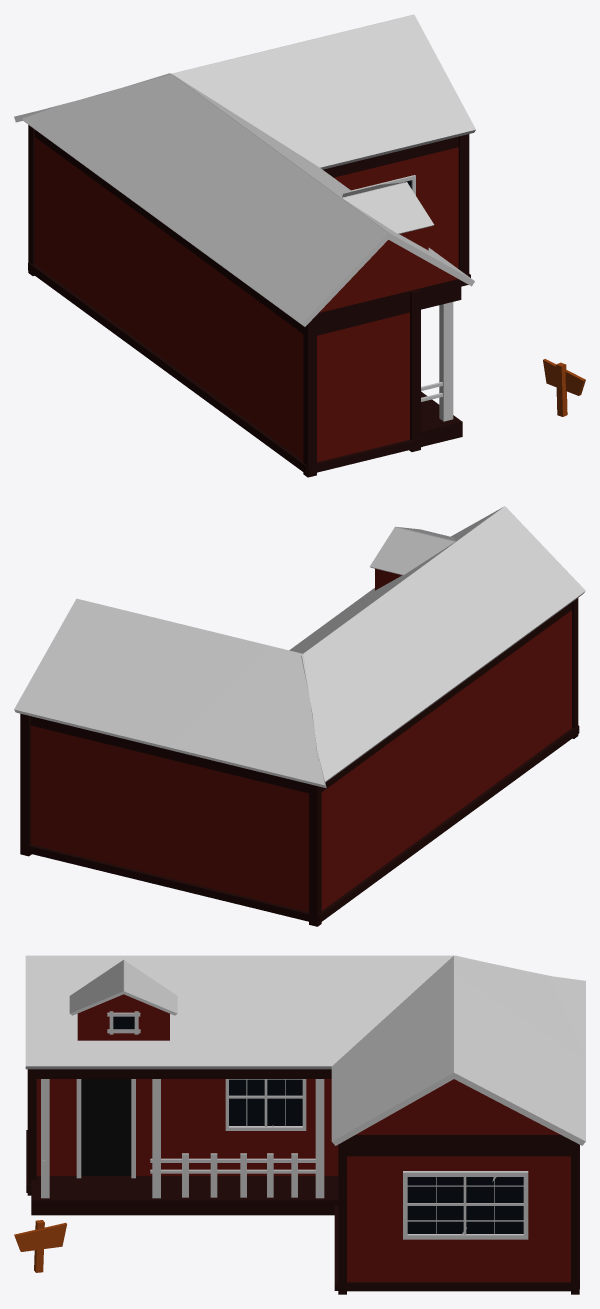
The model's file is House_04.FBX.
The picture shows the model from 3 angles, top to bottom: view 1: azimuth 30°, elevation 25°; view 2: azimuth 150°, elevation 25°; view 3: azimuth 270°, elevation 25°; orthographic projection. The views are drawn at different scales.
Parts seen in each view (by area): view 1: polySurface473, polySurface519, polySurface471, polySurface524, polySurface464, polySurface420, polySurface439, polySurface416, polySurface418, polySurface472, polySurface522, polySurface463 (+24 smaller); view 2: polySurface463, polySurface461, polySurface519, polySurface531, polySurface471, polySurface473, polySurface524, polySurface468, polySurface464, polySurface529, polySurface449, polySurface528 (+21 smaller); view 3: polySurface459, polySurface453, polySurface449, polySurface412, polySurface451, polySurface408, polySurface455, polySurface406, polySurface531, polySurface529, polySurface410, polySurface420 (+38 smaller).
Boxes of the visible parts, box(x1,y1,x2,y2) form: polySurface473: box(203, 271, 409, 431); polySurface519: box(221, 167, 355, 326); polySurface471: box(70, 160, 151, 348); polySurface524: box(32, 108, 239, 198); polySurface464: box(151, 215, 228, 386); polySurface420: box(242, 35, 356, 169); polySurface439: box(325, 240, 461, 347); polySurface416: box(378, 15, 461, 152); polySurface418: box(330, 24, 397, 161); polySurface472: box(273, 304, 409, 377); polySurface522: box(128, 124, 280, 216); polySurface463: box(35, 143, 75, 289); polySurface463: box(232, 759, 357, 911); polySurface461: box(66, 725, 174, 879); polySurface519: box(422, 539, 585, 647); polySurface531: box(167, 645, 316, 754); polySurface471: box(353, 708, 428, 887); polySurface473: box(476, 625, 571, 797); polySurface524: box(318, 608, 423, 773); polySurface468: box(175, 751, 242, 895); polySurface464: box(428, 655, 500, 832); polySurface529: box(97, 614, 224, 740); polySurface449: box(31, 716, 116, 864); polySurface528: box(18, 611, 141, 732); polySurface459: box(347, 1088, 529, 1281); polySurface453: box(36, 1069, 230, 1175); polySurface449: box(438, 1119, 570, 1281); polySurface412: box(276, 956, 420, 1069); polySurface451: box(177, 1069, 278, 1175); polySurface408: box(157, 956, 260, 1069); polySurface455: box(267, 1069, 338, 1175); polySurface406: box(109, 956, 240, 1069); polySurface531: box(453, 955, 585, 1061); polySurface529: box(453, 996, 585, 1098); polySurface410: box(241, 956, 294, 1069); polySurface420: box(331, 990, 453, 1083).
Size of the model in its own units: 20.3 by 13.48 by 30.54.
